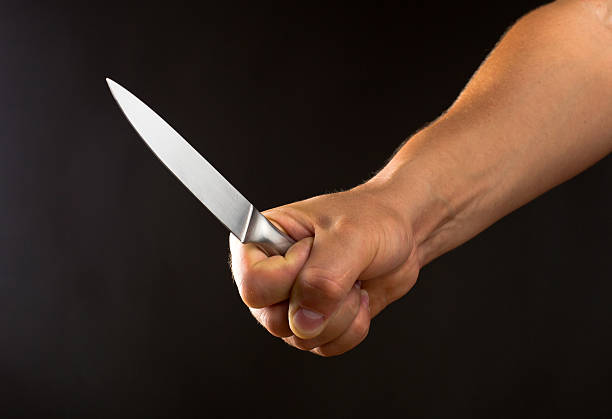knife: (102, 75, 299, 259)
